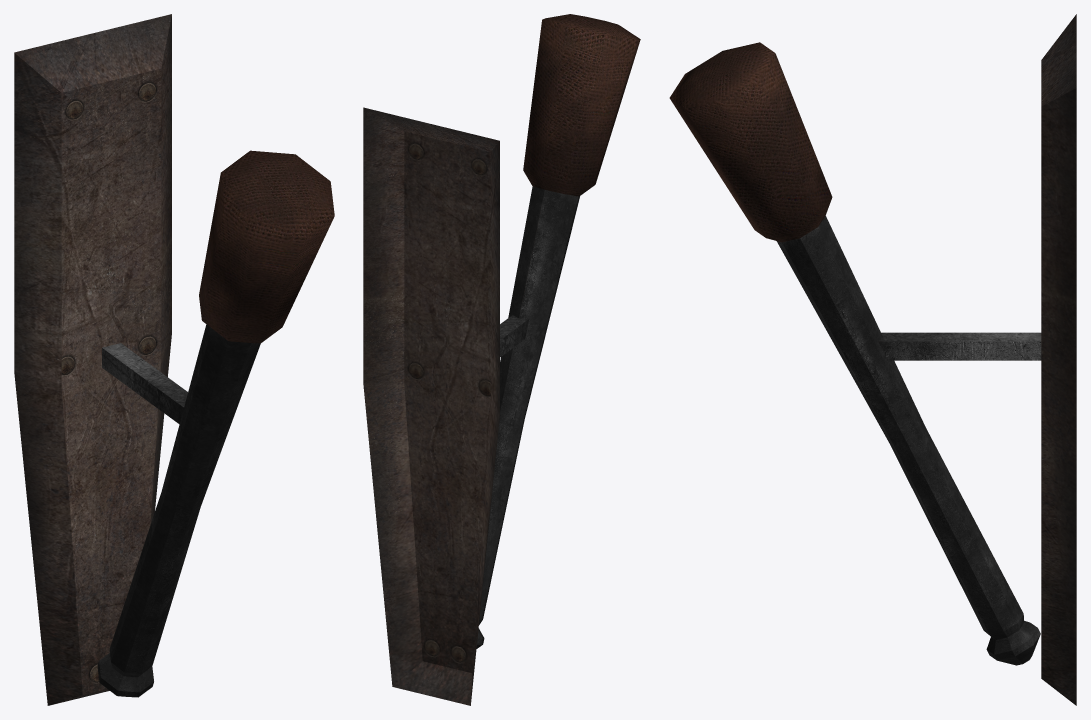
File: Torch.fbx
3 renders of one model, left to right at view 1: azimuth 30°, elevation 25°; view 2: azimuth 150°, elevation 25°; view 3: azimuth 270°, elevation 25°, orthographic. The views are drawn at different scales.
Visible parts, largest first — view 1: Torch; view 2: Torch; view 3: Torch.
Part boxes in pixels (x1=…): Torch: x1=14, y1=14, x2=334, y2=705; Torch: x1=363, y1=14, x2=640, y2=705; Torch: x1=669, y1=14, x2=1076, y2=705.
Size of the model in its own units: 12.42 by 49.72 by 28.93.
